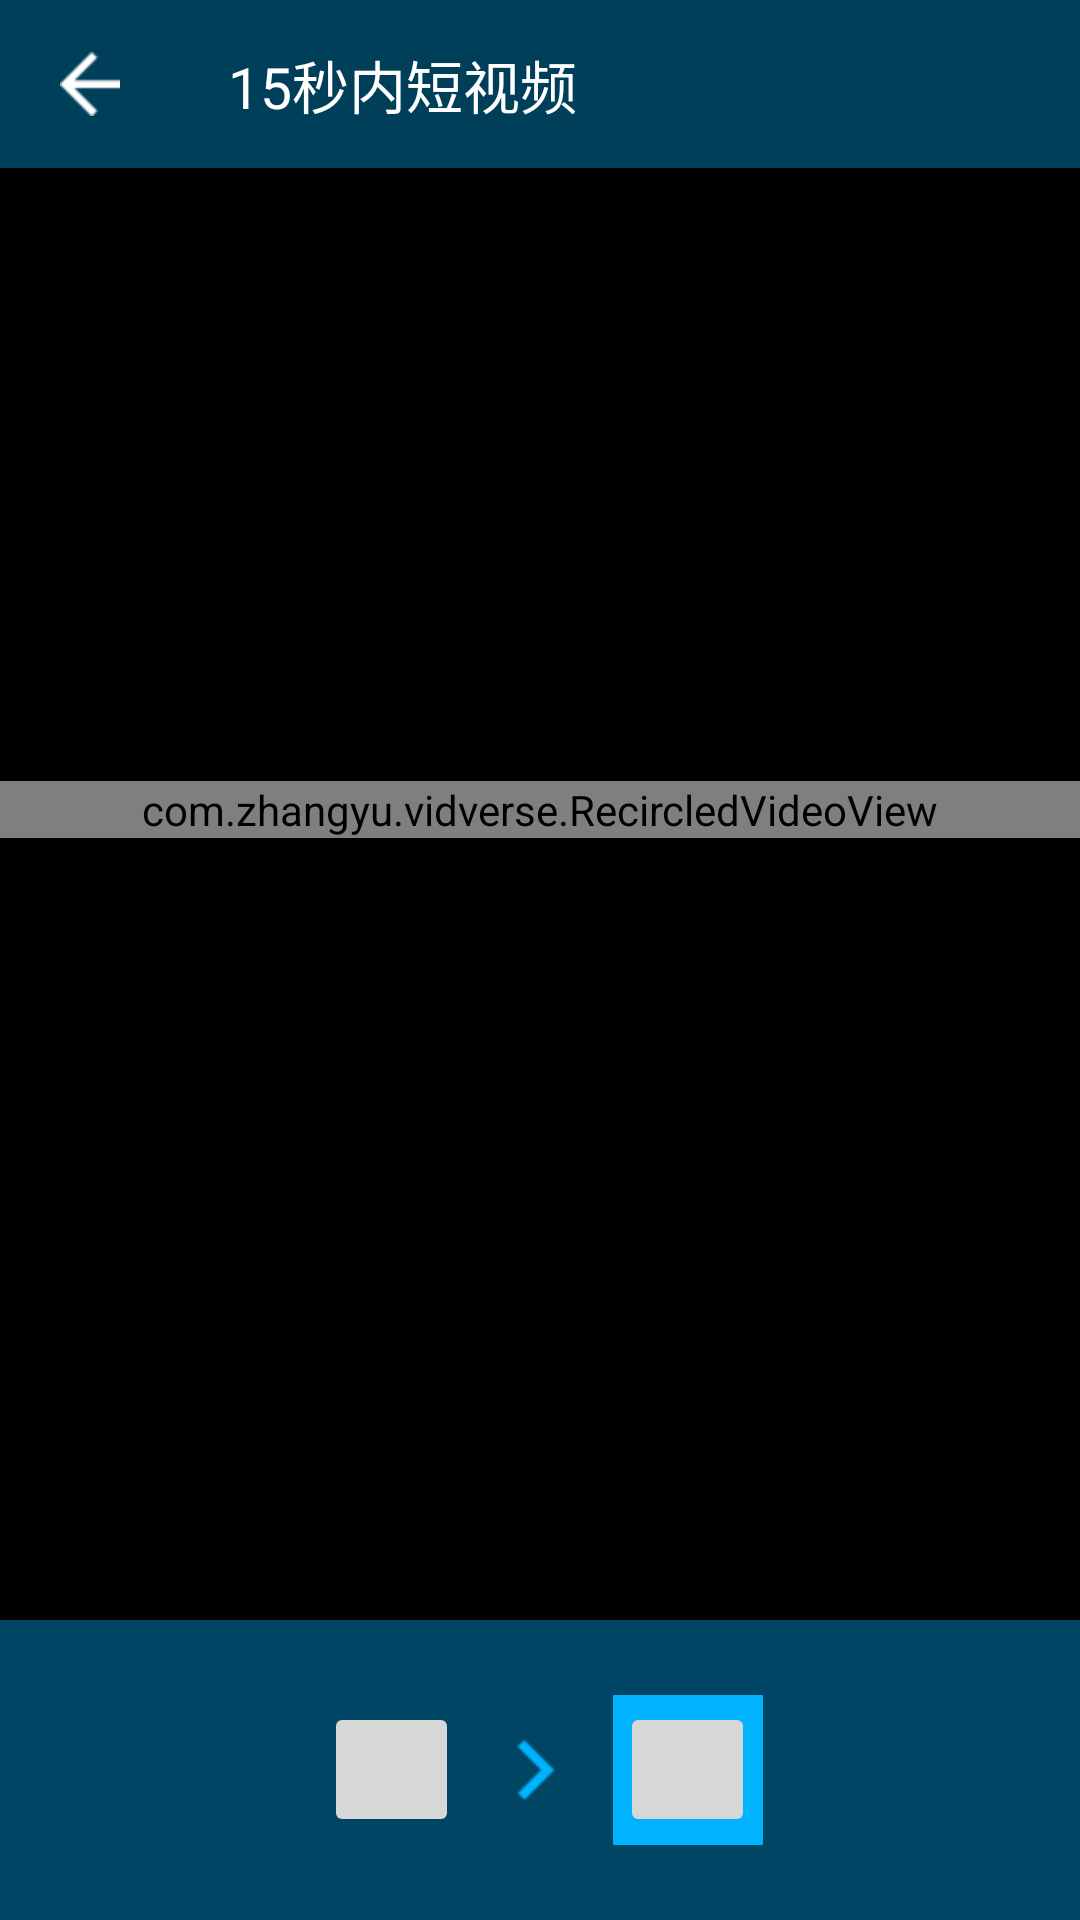

Where icons sit on this 1080x1920 app screen, as (x1, y1, x2, y2):
back: (60, 52, 120, 116)
left to right: (517, 1740, 555, 1800)
